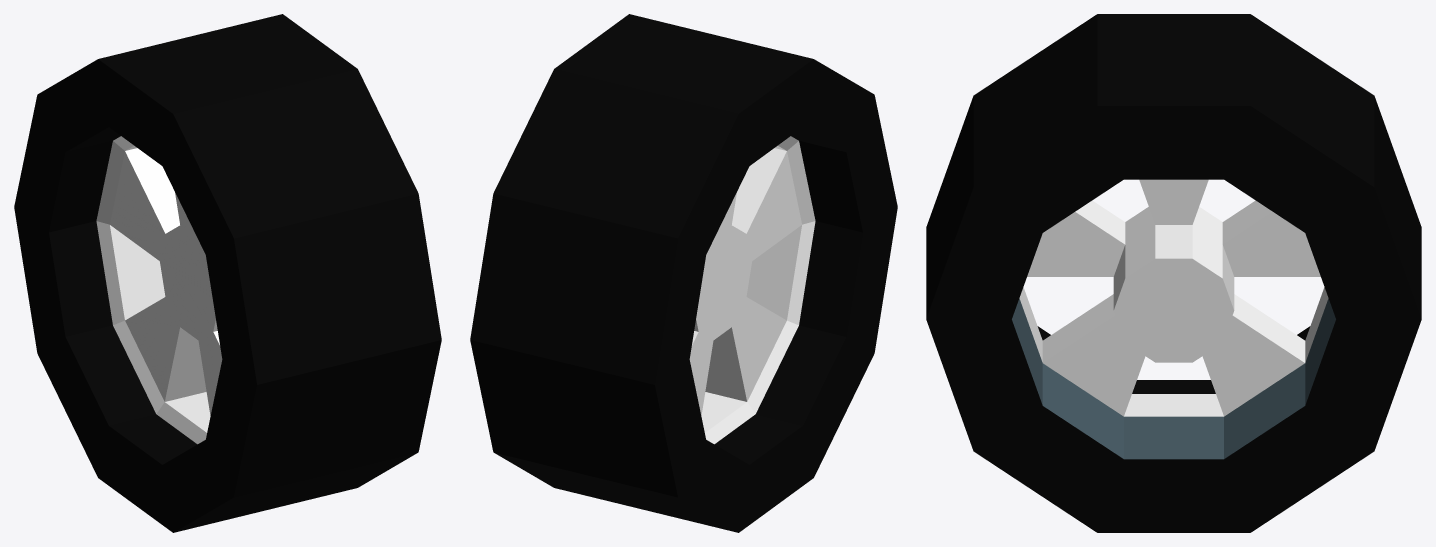
File: wheel.fbx
3 renders of one model, left to right at view 1: azimuth 30°, elevation 25°; view 2: azimuth 150°, elevation 25°; view 3: azimuth 270°, elevation 25°, orthographic.
Visible parts, largest first — view 1: Wheel; view 2: Wheel; view 3: Wheel.
Part boxes in pixels (x1,y1,x2,y2): Wheel: (14, 14, 441, 532); Wheel: (470, 14, 897, 532); Wheel: (926, 14, 1421, 532).
Bounding box in the file's own units: 0.2757 × 0.5977 × 0.6284.
